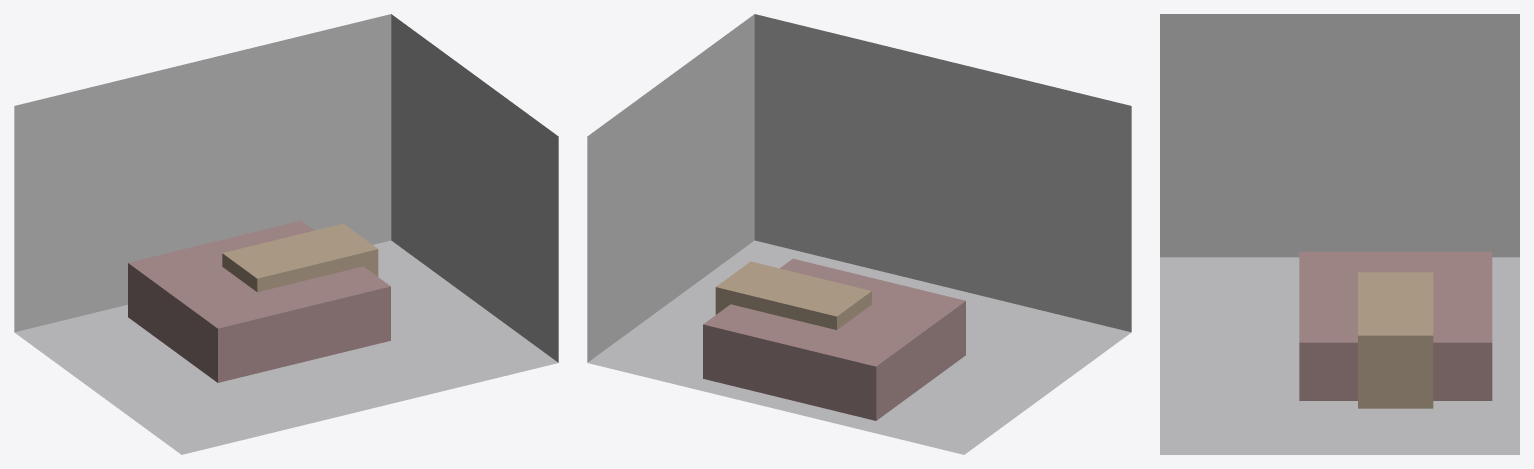
File: current_layout.glb
3 renders of one model, left to right at view 1: azimuth 30°, elevation 25°; view 2: azimuth 150°, elevation 25°; view 3: azimuth 270°, elevation 25°, orthographic. The views are drawn at different scales.
Parts seen in each view (by area): view 1: room, bed, desk; view 2: room, bed, desk; view 3: room, bed, desk.
Boxes of the visible parts, x1,y1,x2,y2 form: room: (14, 14, 558, 454); bed: (128, 220, 390, 382); desk: (222, 223, 378, 292); room: (587, 14, 1131, 454); bed: (703, 258, 965, 420); desk: (715, 261, 871, 329); room: (1160, 14, 1519, 454); bed: (1299, 251, 1492, 400); desk: (1358, 272, 1433, 408).
Bounding box in the file's own units: 4.36 × 2.5 × 3.35.
